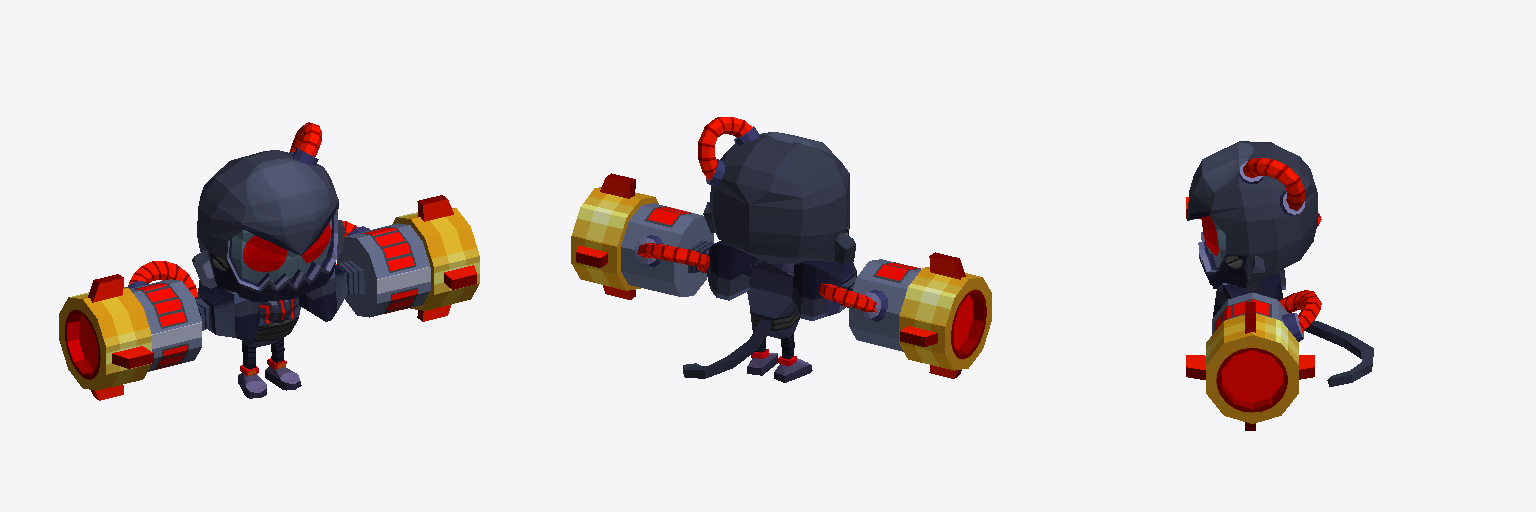
3 views of the same model, side by side, from view 1: azimuth 30°, elevation 25°; view 2: azimuth 150°, elevation 25°; view 3: azimuth 270°, elevation 25° (orthographic).
Parts seen in each view (by area): view 1: FlatSkin_SuperMonkey_TheAntiBloon, TheAntiBloonArmRH, TheAntiBloonArmLH; view 2: FlatSkin_SuperMonkey_TheAntiBloon, TheAntiBloonArmRH, TheAntiBloonArmLH; view 3: FlatSkin_SuperMonkey_TheAntiBloon, TheAntiBloonArmLH.
Part boxes in pixels (bbox=[...]): FlatSkin_SuperMonkey_TheAntiBloon: bbox=[192, 122, 344, 398]; TheAntiBloonArmRH: bbox=[59, 261, 259, 400]; TheAntiBloonArmLH: bbox=[299, 195, 479, 321]; FlatSkin_SuperMonkey_TheAntiBloon: bbox=[683, 117, 855, 382]; TheAntiBloonArmRH: bbox=[792, 252, 991, 378]; TheAntiBloonArmLH: bbox=[571, 173, 759, 300]; FlatSkin_SuperMonkey_TheAntiBloon: bbox=[1187, 141, 1373, 386]; TheAntiBloonArmLH: bbox=[1186, 273, 1321, 430].
Bounding box in the file's own units: 41.28 × 25.84 × 17.96.
2 materials, 2 textured.